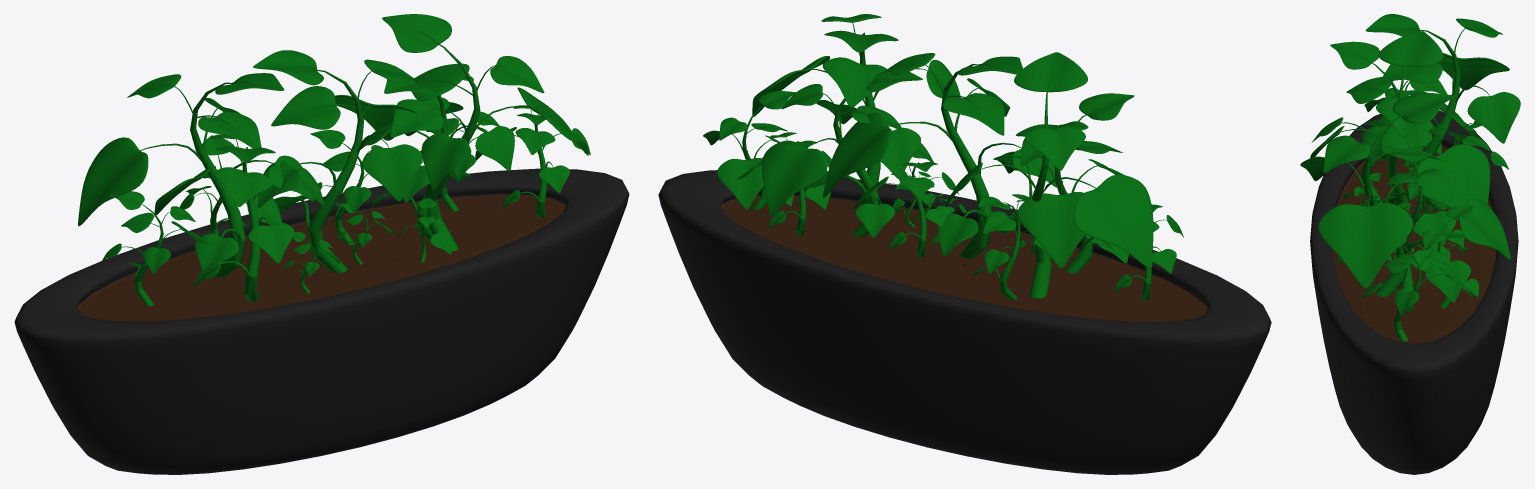
File: LongTablePlant.fbx
3 renders of one model, left to right at view 1: azimuth 30°, elevation 25°; view 2: azimuth 150°, elevation 25°; view 3: azimuth 270°, elevation 25°, orthographic. The views are drawn at different scales.
Visible parts, largest first — view 1: pasted__nurbsToPoly1, group52_pasted__group44_pasted__pasted__group25_pasted__past; view 2: pasted__nurbsToPoly1, group52_pasted__group44_pasted__pasted__group25_pasted__past; view 3: pasted__nurbsToPoly1, group52_pasted__group44_pasted__pasted__group25_pasted__past.
Part boxes in pixels (bbox=[...]): pasted__nurbsToPoly1: bbox=[14, 168, 629, 474]; group52_pasted__group44_pasted__pasted__group25_pasted__past: bbox=[78, 14, 590, 306]; pasted__nurbsToPoly1: bbox=[658, 170, 1271, 474]; group52_pasted__group44_pasted__pasted__group25_pasted__past: bbox=[703, 14, 1183, 300]; pasted__nurbsToPoly1: bbox=[1310, 110, 1518, 474]; group52_pasted__group44_pasted__pasted__group25_pasted__past: bbox=[1300, 14, 1520, 341].
Bounding box in the file's own units: 24.43 × 14.24 × 8.61.
